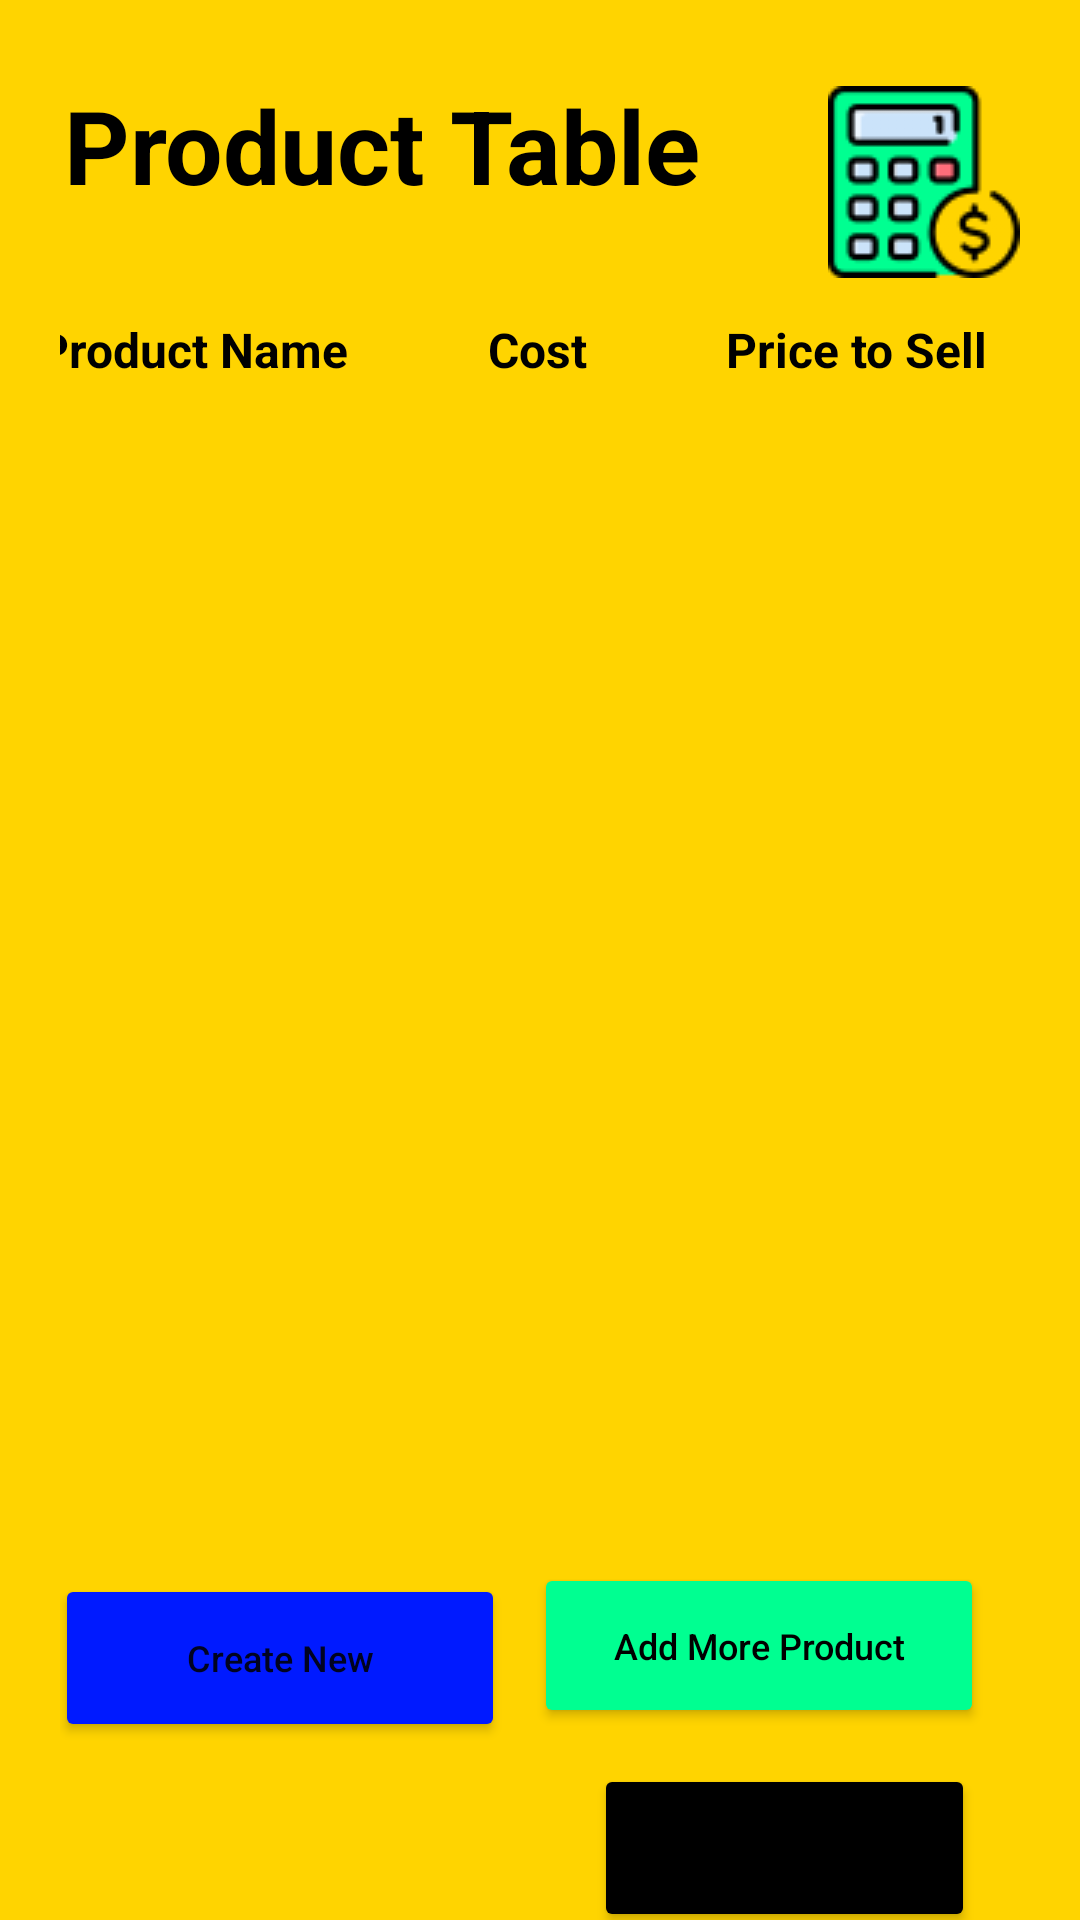

Where icons sit on this 1080w x 1920h app screen, as box(x1, y1, x2, y2):
calculator: box(828, 86, 1020, 278)
